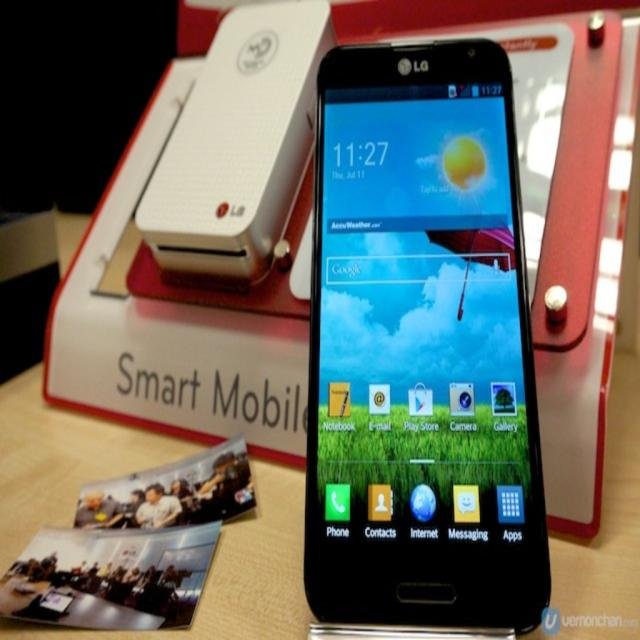Mobile-phone: (316, 34, 552, 638)
